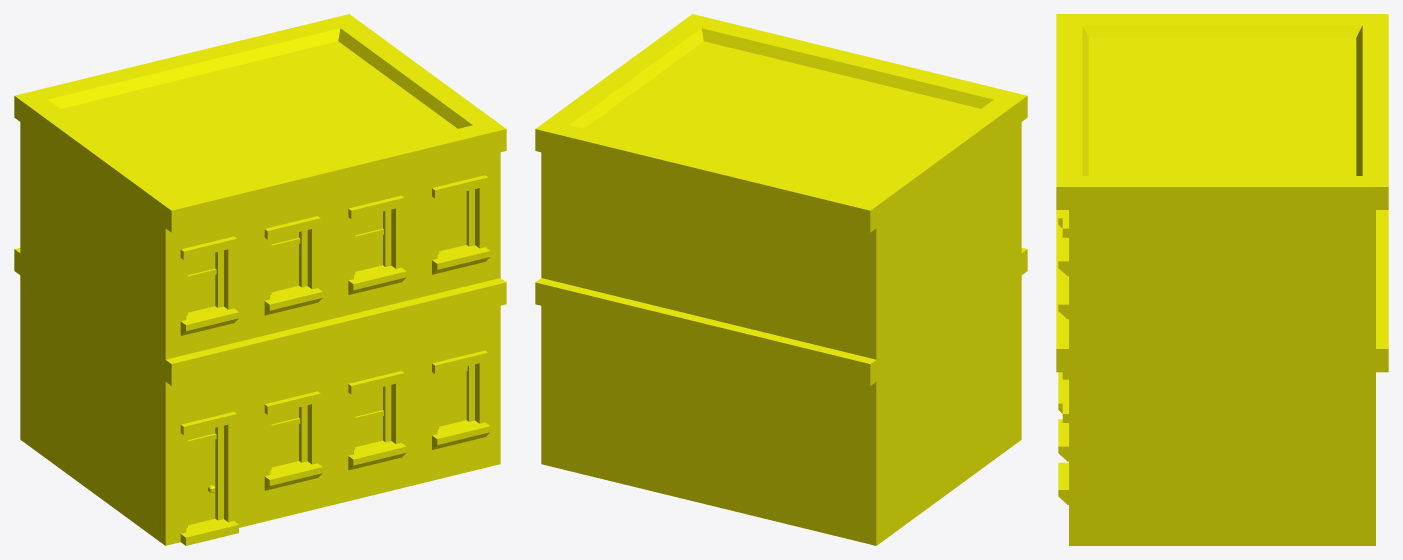
The model's file is kaykit-building-b-withoutbase.glb.
3 views of the same model, side by side, from view 1: azimuth 30°, elevation 25°; view 2: azimuth 150°, elevation 25°; view 3: azimuth 270°, elevation 25° (orthographic). The views are drawn at different scales.
Visible parts, largest first — view 1: building_B_withoutBase; view 2: building_B_withoutBase; view 3: building_B_withoutBase.
Boxes of the visible parts, bbox=[...] form: building_B_withoutBase: bbox=[14, 14, 506, 545]; building_B_withoutBase: bbox=[535, 14, 1027, 545]; building_B_withoutBase: bbox=[1056, 14, 1388, 545].
Bounding box in the file's own units: 1.61 × 1.55 × 1.3.
